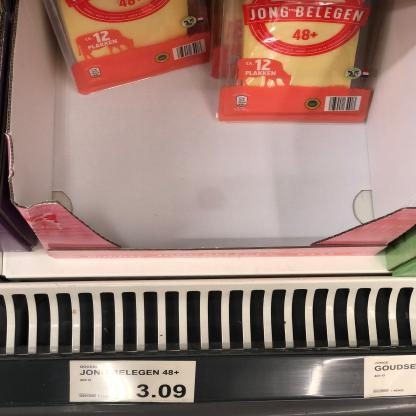prtg: (70, 361, 197, 404), (365, 355, 416, 400)
